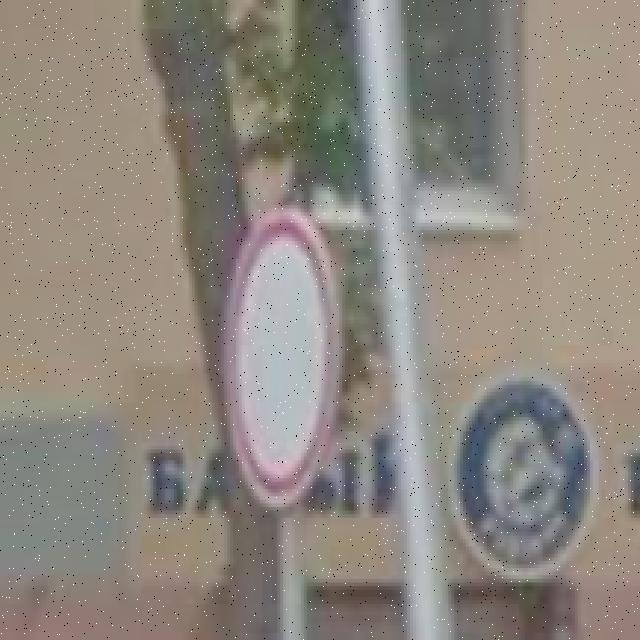Zakaz ruchu w obu kierunkach: (218, 205, 342, 514)
